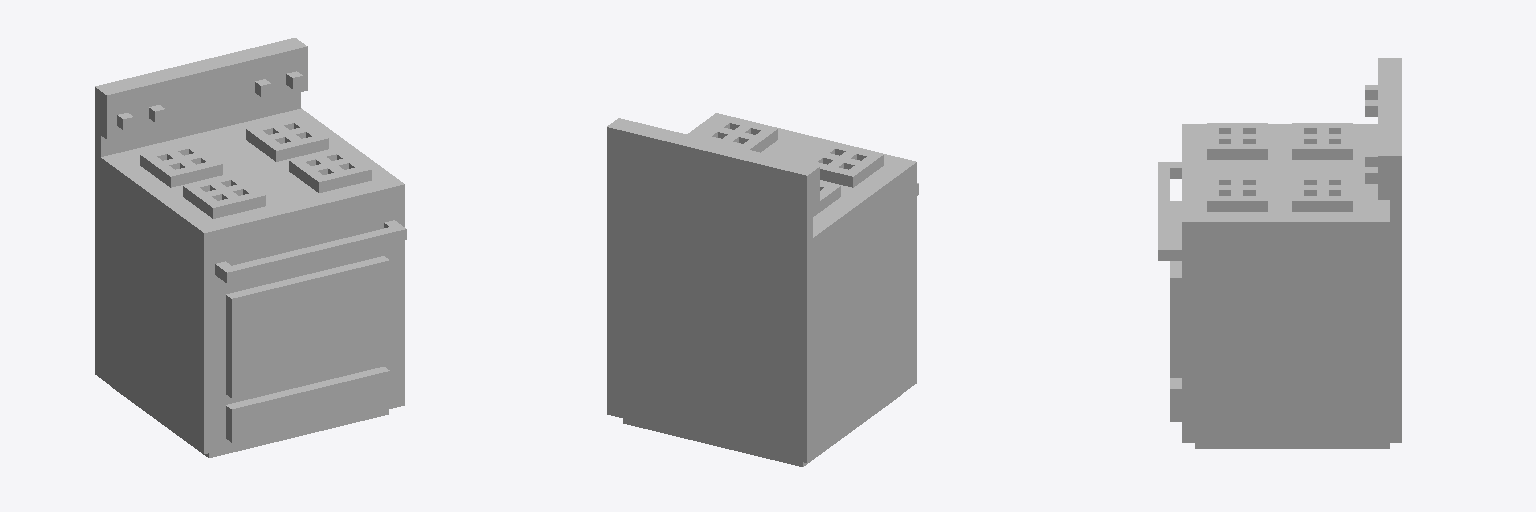
Rendered from oven2.obj.
The picture shows the model from 3 angles: view 1: azimuth 30°, elevation 25°; view 2: azimuth 150°, elevation 25°; view 3: azimuth 270°, elevation 25°; orthographic projection.
Visible parts, largest first — view 1: object 1; view 2: object 1; view 3: object 1.
Boxes of the visible parts, x1,y1,x2,y2 form: object 1: [95, 38, 406, 457]; object 1: [607, 113, 918, 466]; object 1: [1158, 58, 1401, 448].
Size of the model in its own units: 3.8 by 5.4 by 4.